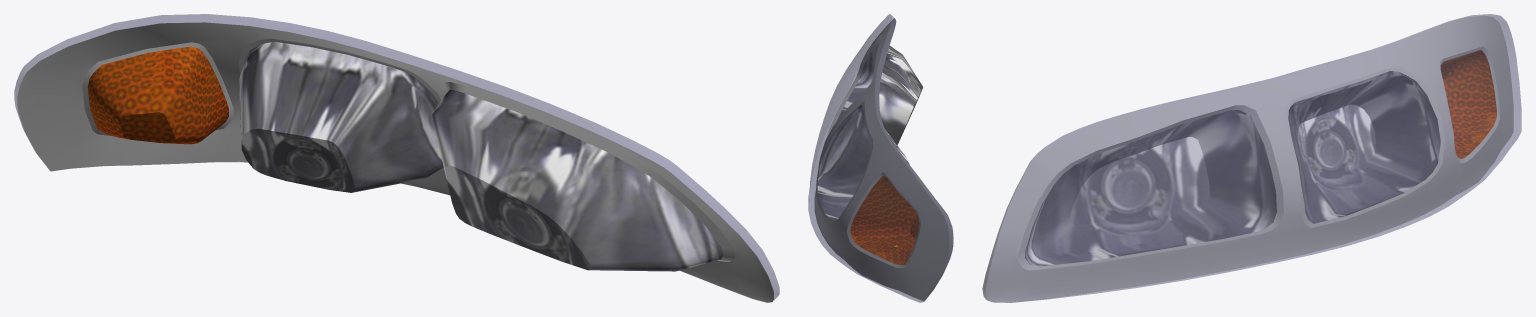
The picture shows the model from 3 angles, left to right: view 1: azimuth 30°, elevation 25°; view 2: azimuth 150°, elevation 25°; view 3: azimuth 270°, elevation 25°; orthographic projection. The views are drawn at different scales.
Parts seen in each view (by area): view 1: Z176_061B_L_1_N_Z176_061B_L, Z176_061B_L_Z176_061B_L_4_DaS, Z176_061B_L_Z176_061B_L_2_N, Z176_061B_L_Z176_061B_L_3_N, Z176_061B_L_Z176_061B_L_6_DTaSI; view 2: Z176_061B_L_Z176_061B_L_6_DTaSI, Z176_061B_L_Z176_061B_L_4_DaS, Z176_061B_L_Z176_061B_L_3_N, Z176_061B_L_Z176_061B_L_2_N, Z176_061B_L_1_N_Z176_061B_L; view 3: Z176_061B_L_Z176_061B_L_6_DTaSI, Z176_061B_L_Z176_061B_L_4_DaS, Z176_061B_L_1_N_Z176_061B_L, Z176_061B_L_Z176_061B_L_2_N, Z176_061B_L_Z176_061B_L_3_N.
Boxes of the visible parts, x1,y1,x2,y2 form: Z176_061B_L_1_N_Z176_061B_L: (432, 90, 723, 271); Z176_061B_L_Z176_061B_L_4_DaS: (17, 22, 773, 302); Z176_061B_L_Z176_061B_L_2_N: (239, 42, 443, 192); Z176_061B_L_Z176_061B_L_3_N: (87, 46, 228, 144); Z176_061B_L_Z176_061B_L_6_DTaSI: (14, 14, 779, 300); Z176_061B_L_Z176_061B_L_6_DTaSI: (808, 14, 953, 302); Z176_061B_L_Z176_061B_L_4_DaS: (814, 18, 953, 301); Z176_061B_L_Z176_061B_L_3_N: (850, 176, 919, 265); Z176_061B_L_Z176_061B_L_2_N: (817, 105, 909, 220); Z176_061B_L_1_N_Z176_061B_L: (837, 43, 922, 144); Z176_061B_L_Z176_061B_L_6_DTaSI: (983, 14, 1521, 302); Z176_061B_L_Z176_061B_L_4_DaS: (982, 15, 1513, 302); Z176_061B_L_1_N_Z176_061B_L: (1025, 110, 1276, 266); Z176_061B_L_Z176_061B_L_2_N: (1288, 71, 1440, 223); Z176_061B_L_Z176_061B_L_3_N: (1440, 50, 1496, 158).
Bounding box in the file's own units: 44.78 × 17.02 × 54.75.
